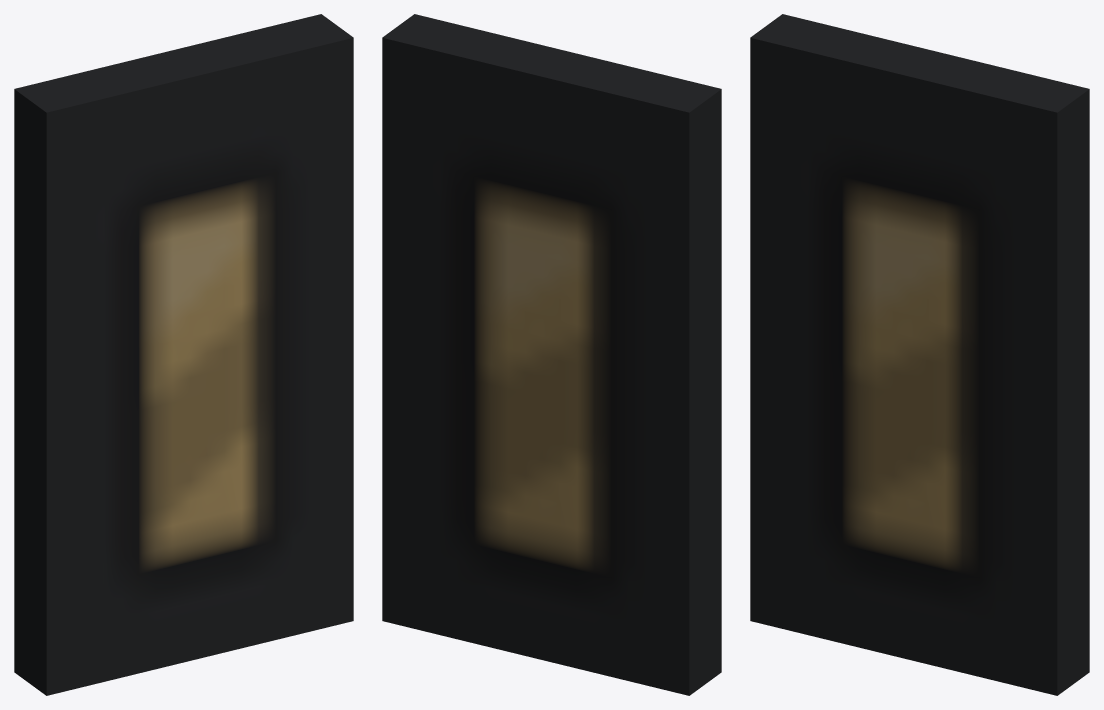
The model's file is SM_Chr_Attach_Patch_Rank_05.fbx.
The picture shows the model from 3 angles, left to right: view 1: azimuth 30°, elevation 25°; view 2: azimuth 150°, elevation 25°; view 3: azimuth 330°, elevation 25°; orthographic projection.
Parts seen in each view (by area): view 1: SM_Chr_Attach_Patch_Rank_05; view 2: SM_Chr_Attach_Patch_Rank_05; view 3: SM_Chr_Attach_Patch_Rank_05.
Part boxes in pixels (x1=…): SM_Chr_Attach_Patch_Rank_05: x1=14, y1=14, x2=353, y2=695; SM_Chr_Attach_Patch_Rank_05: x1=382, y1=14, x2=721, y2=695; SM_Chr_Attach_Patch_Rank_05: x1=750, y1=14, x2=1089, y2=695.
Size of the model in its own units: 3.29 by 5.96 by 0.6004.
